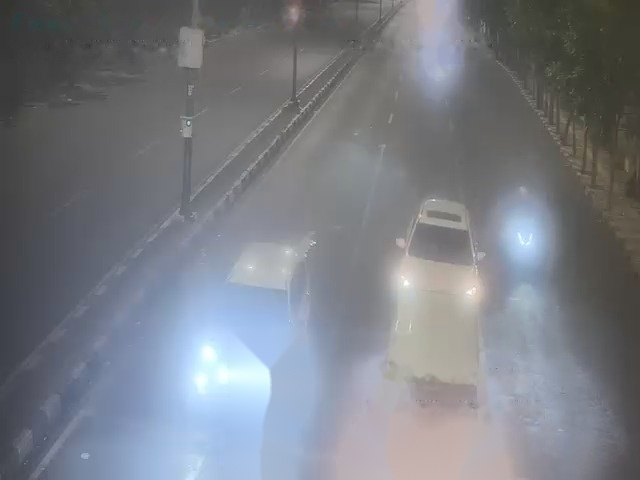Mobil: (204, 242, 312, 406), (393, 185, 480, 308)
Motor: (506, 215, 542, 262)
